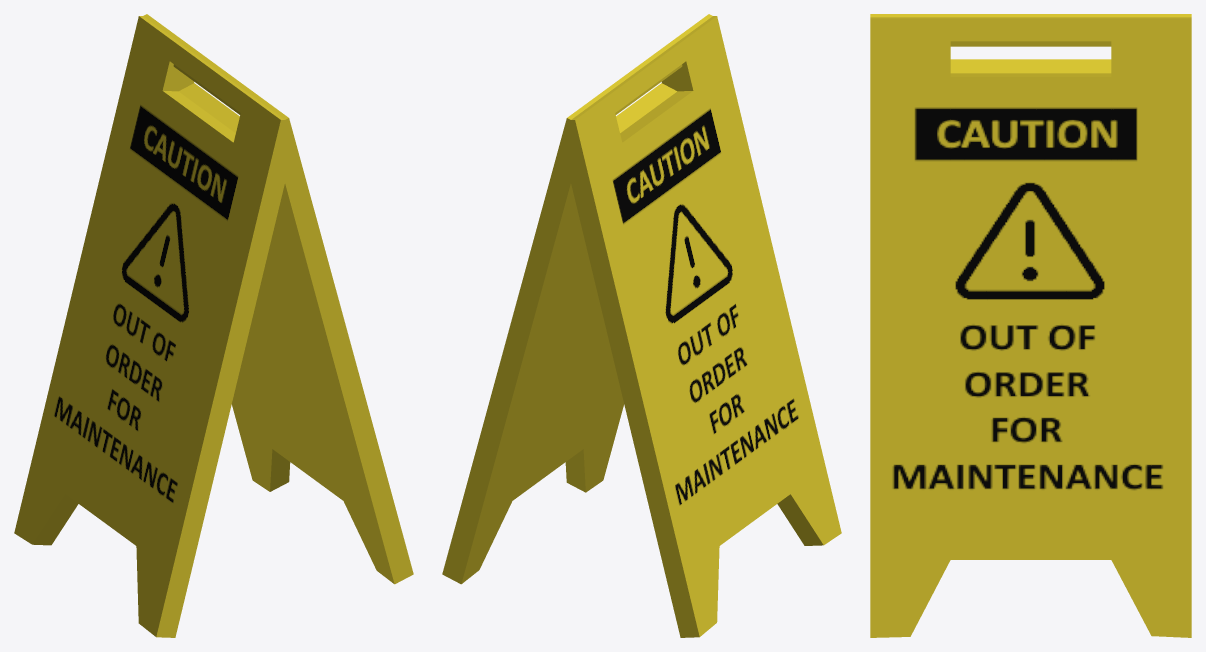
The model's file is Sign.fbx.
3 views of the same model, side by side, from view 1: azimuth 30°, elevation 25°; view 2: azimuth 150°, elevation 25°; view 3: azimuth 270°, elevation 25° (orthographic). The views are drawn at different scales.
Visible parts, largest first — view 1: Cube; view 2: Cube; view 3: Cube.
Part boxes in pixels (left/top/right/bottom): Cube: left=14, top=14, right=413, bottom=637; Cube: left=442, top=14, right=841, bottom=637; Cube: left=870, top=14, right=1191, bottom=637.
Size of the model in its own units: 191 by 348 by 182.
1 material, 1 textured.
